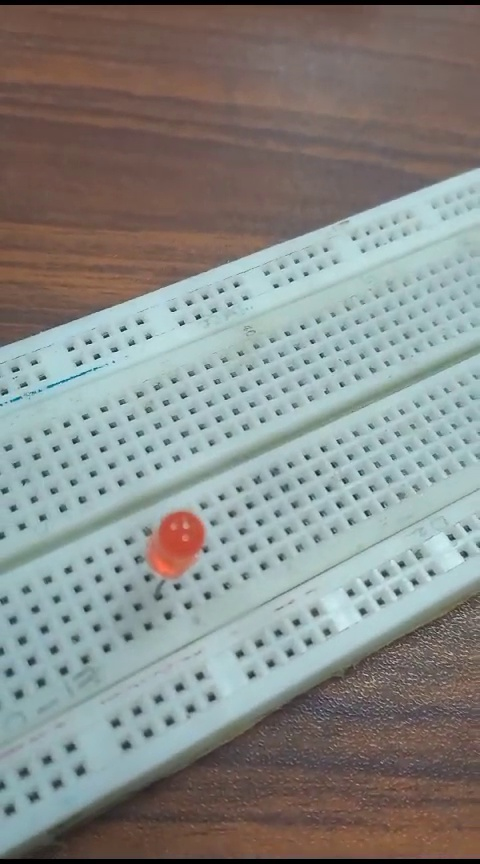LED: (142, 517, 207, 593)
